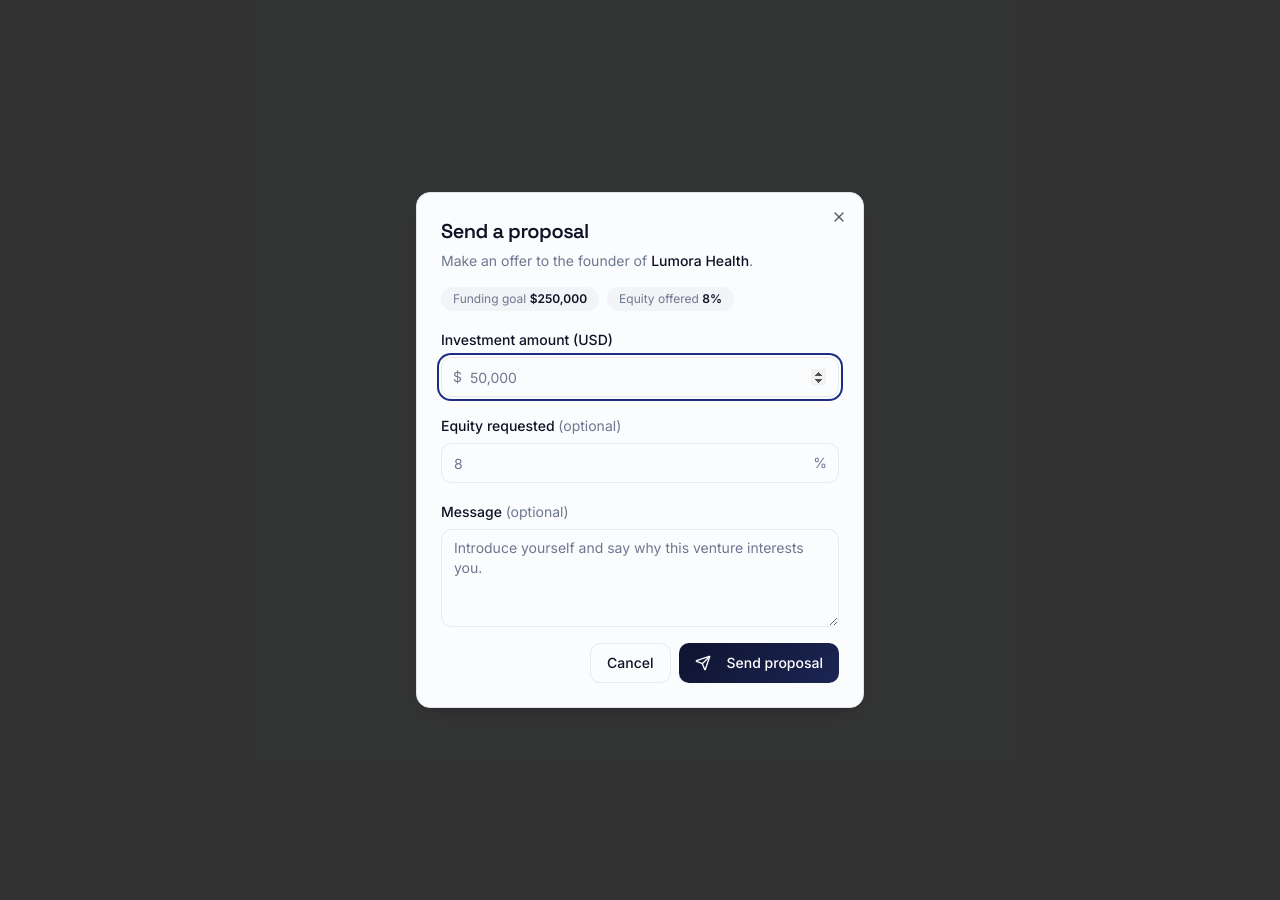
Test: SendProposalDialog › rejects equity above 100%
Type "1000" into the number field labelled "Investment amount (USD)". click: (640, 377)
box: [441,357,839,397]
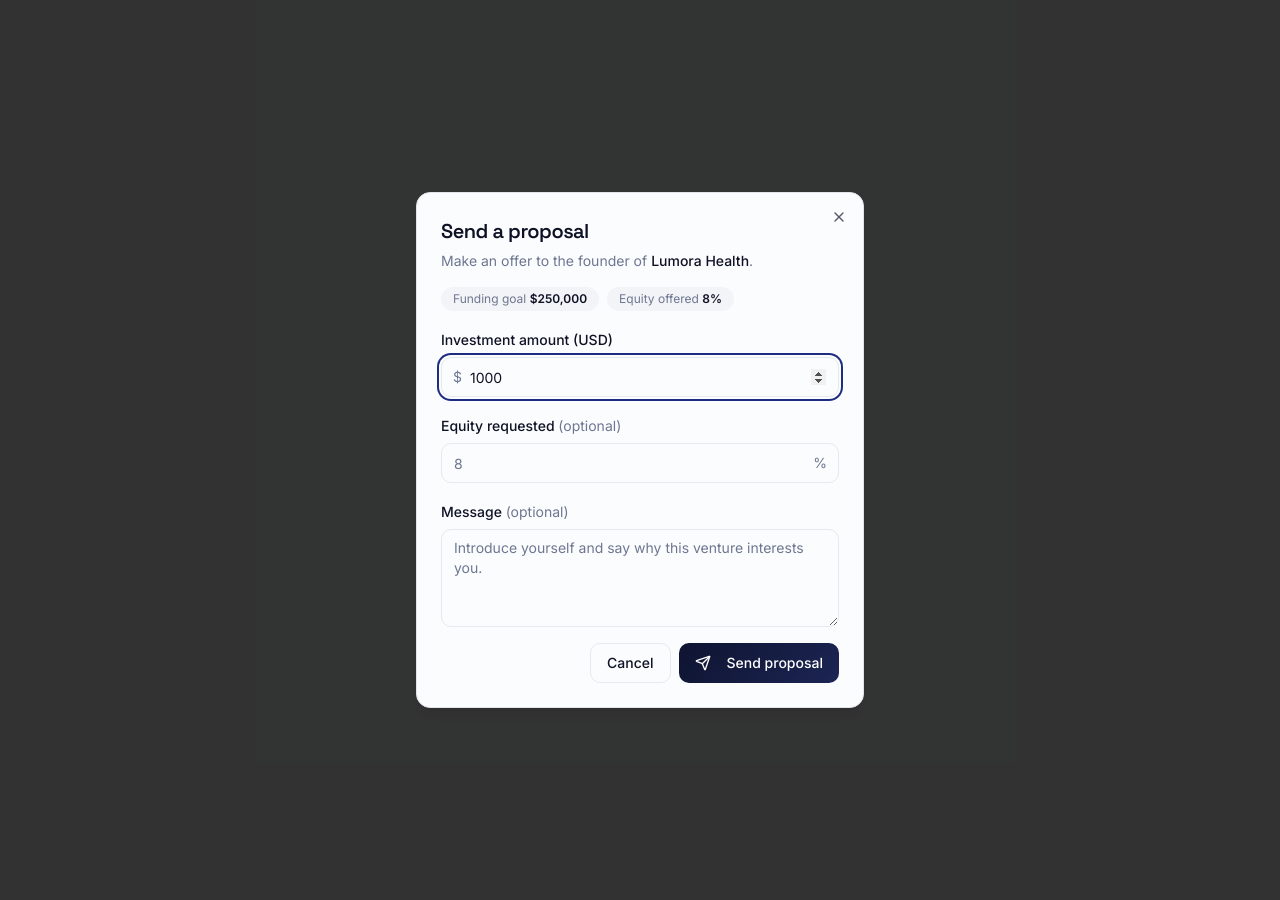
Type "150" into the number field labelled "Equity requested (optional)". click: (640, 463)
box: [441,443,839,483]
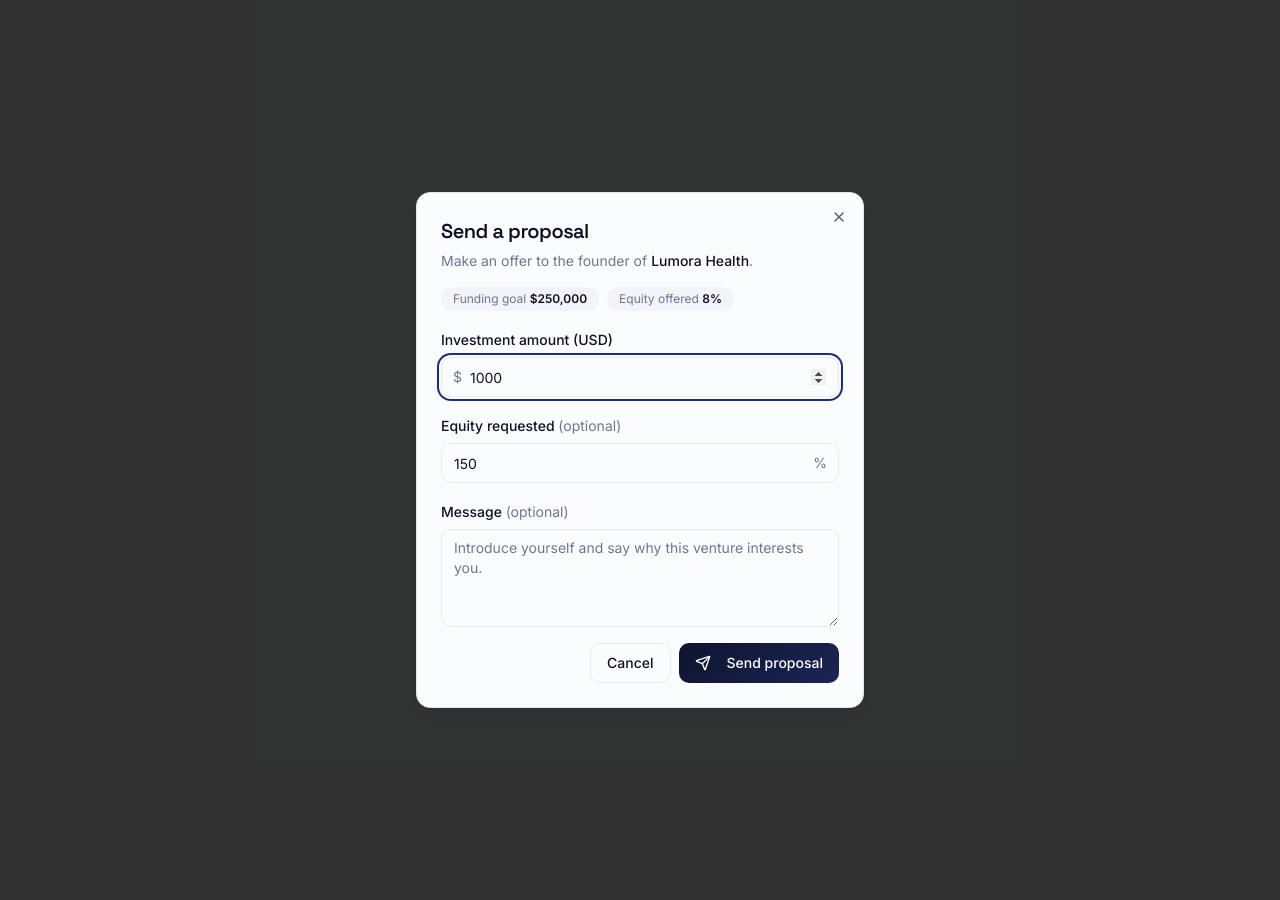
Click the button "Send proposal". click: (759, 663)
box: [678,643,839,683]
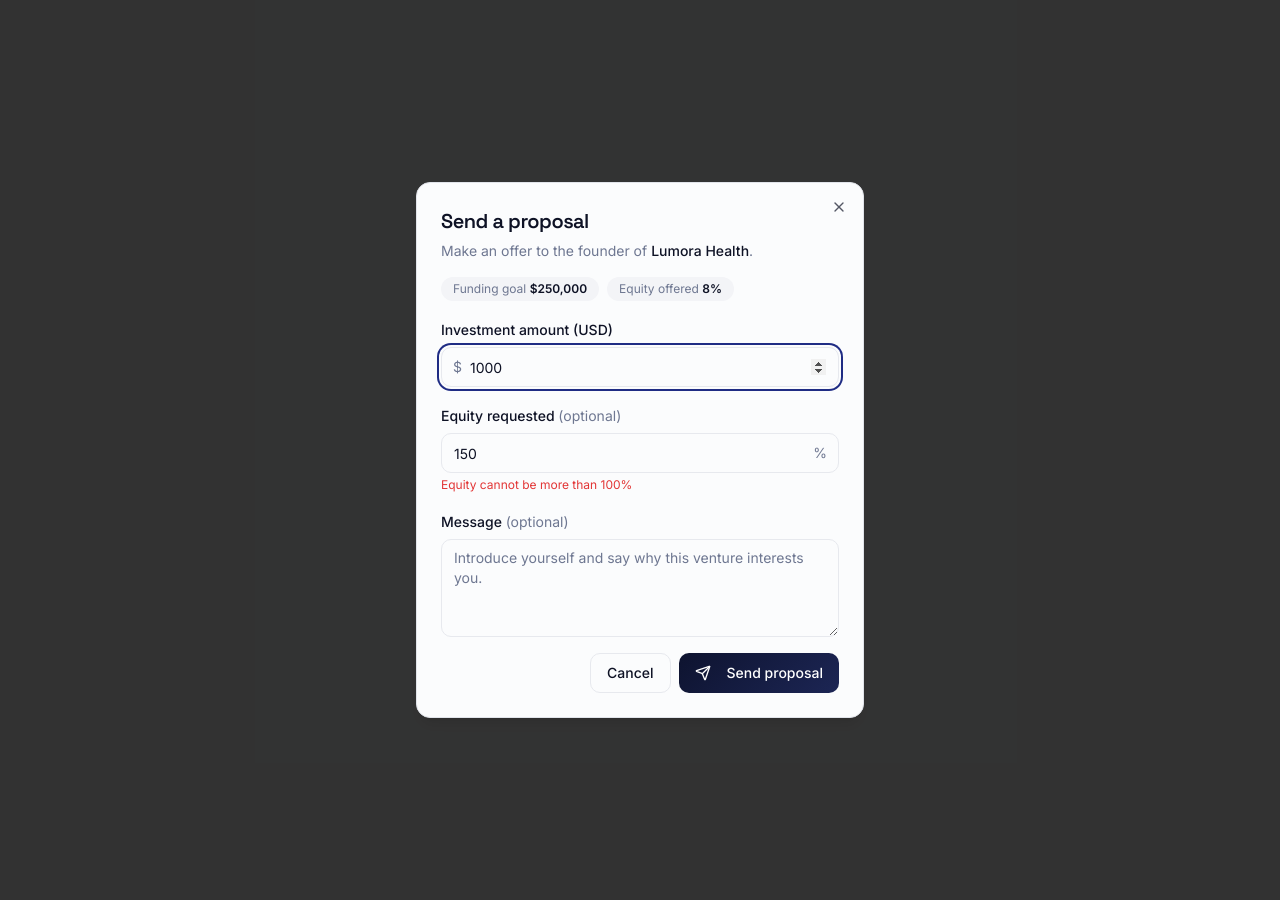
Result: the text "Equity cannot be more than 100%" is shown at [441,477,632,492]
